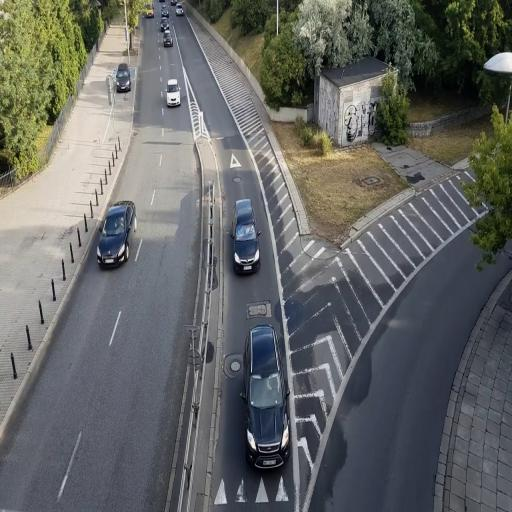vehicle: (96, 200, 136, 269), (233, 215, 261, 275), (164, 79, 182, 108), (114, 63, 132, 92), (161, 26, 173, 47)
